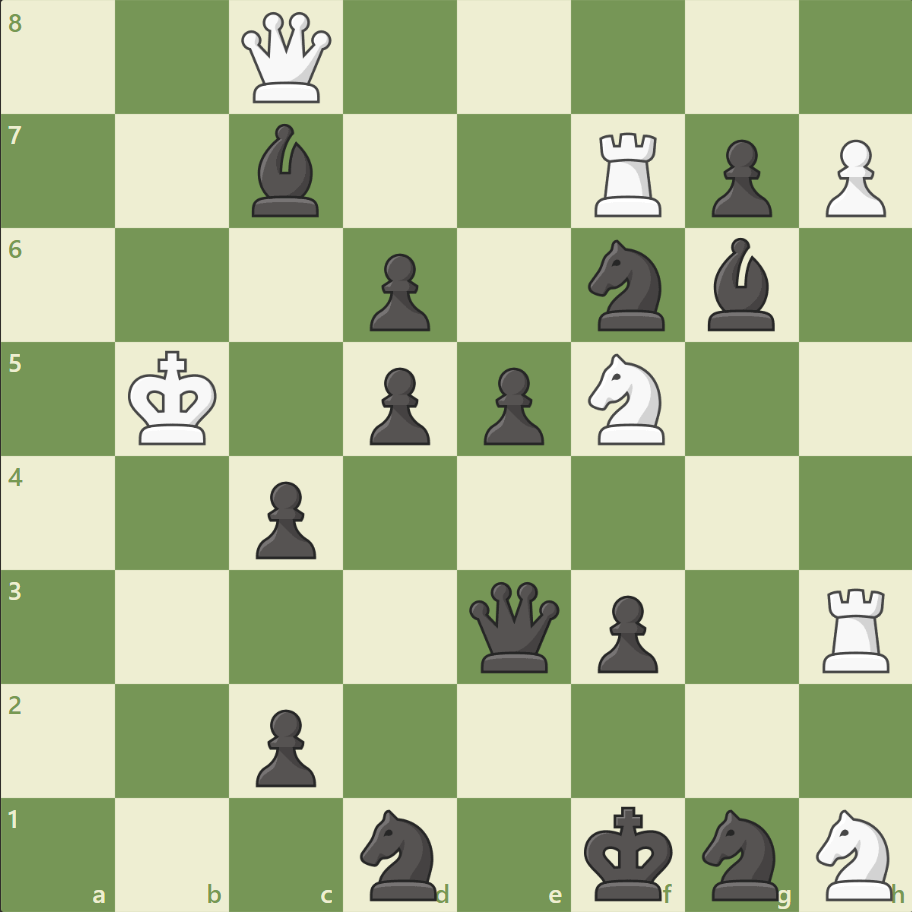K: (124, 344, 224, 452)
N: (579, 348, 676, 450), (806, 802, 903, 904)
P: (815, 132, 889, 223)
Q: (237, 9, 336, 108)
R: (587, 125, 670, 222), (814, 579, 897, 676)
b: (698, 233, 782, 336), (244, 120, 328, 222)
k: (579, 798, 679, 906)
n: (351, 802, 449, 904), (579, 234, 676, 337), (692, 802, 789, 904)
p: (701, 132, 776, 223), (474, 359, 549, 450), (247, 473, 322, 564), (247, 700, 322, 791), (361, 246, 435, 337), (361, 359, 435, 450), (588, 586, 662, 677)
q: (464, 576, 563, 676)
